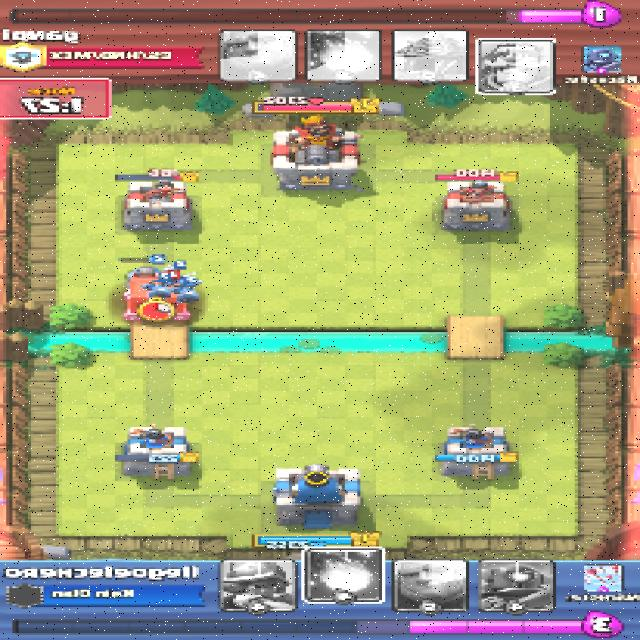Player-GoblinCage: (122, 278, 196, 321)
Player-Knight: (124, 266, 167, 281)
Player-Minion: (142, 282, 176, 301), (169, 287, 204, 303), (163, 271, 199, 285)
